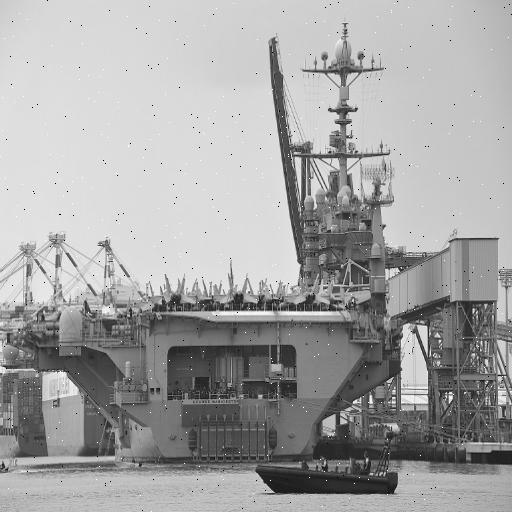Portanaves: (3, 17, 412, 473)
